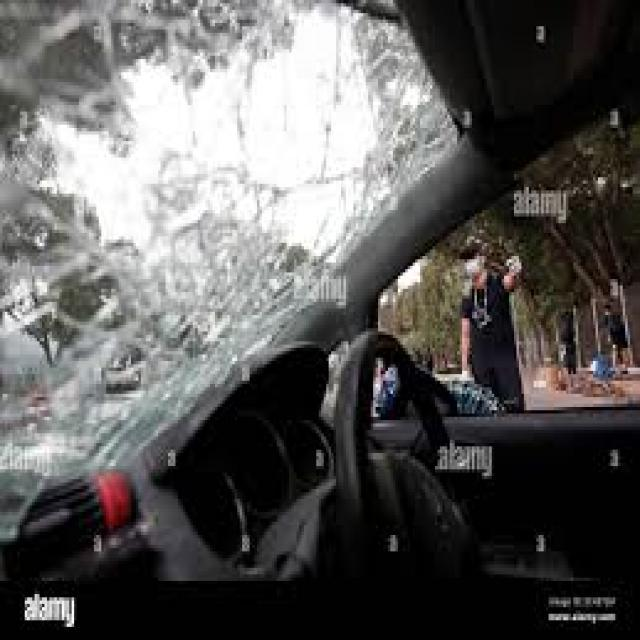damaged-windscreen: (0, 0, 478, 478)
